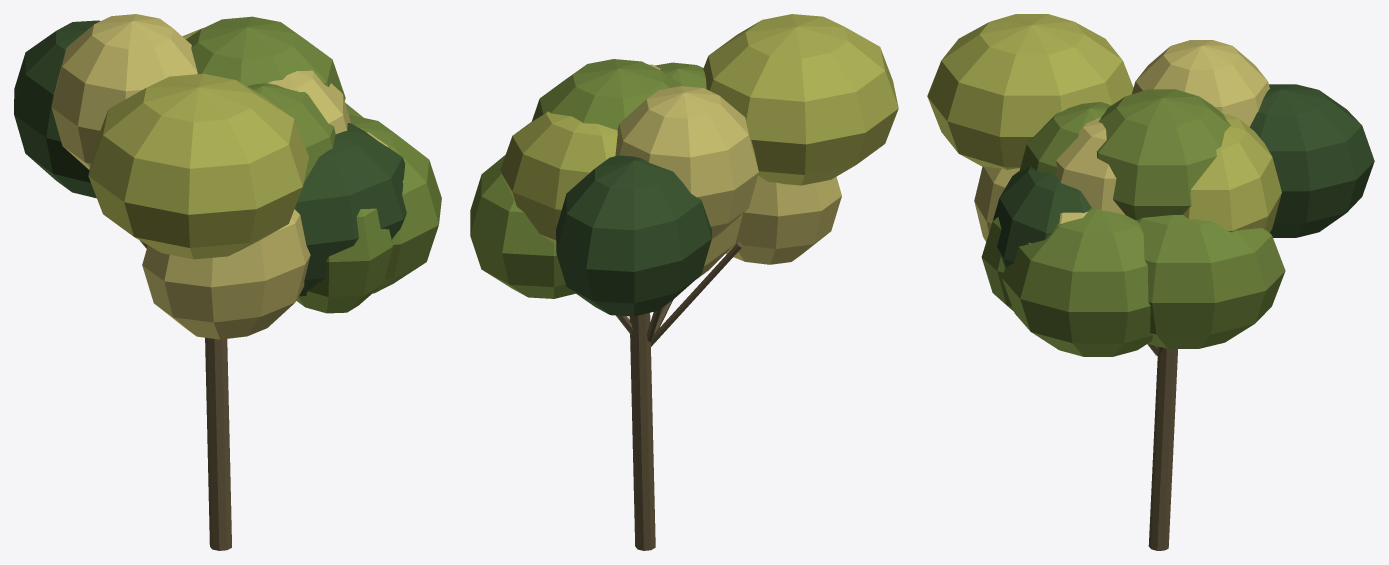
The model's file is Forest_BacklitTree_01.obj.
3 renders of one model, left to right at view 1: azimuth 30°, elevation 25°; view 2: azimuth 150°, elevation 25°; view 3: azimuth 270°, elevation 25°, orthographic. The views are drawn at different scales.
Parts seen in each view (by area): view 1: Forest_BacklitTree_01; view 2: Forest_BacklitTree_01; view 3: Forest_BacklitTree_01.
Boxes of the visible parts, x1,y1,x2,y2 form: Forest_BacklitTree_01: (14,14,441,550); Forest_BacklitTree_01: (470,14,898,550); Forest_BacklitTree_01: (927,14,1374,550).
Size of the model in its own units: 6.11 by 8.76 by 7.38.
1 material, 1 textured.
